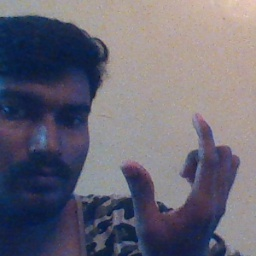U: (117, 107, 239, 244)
